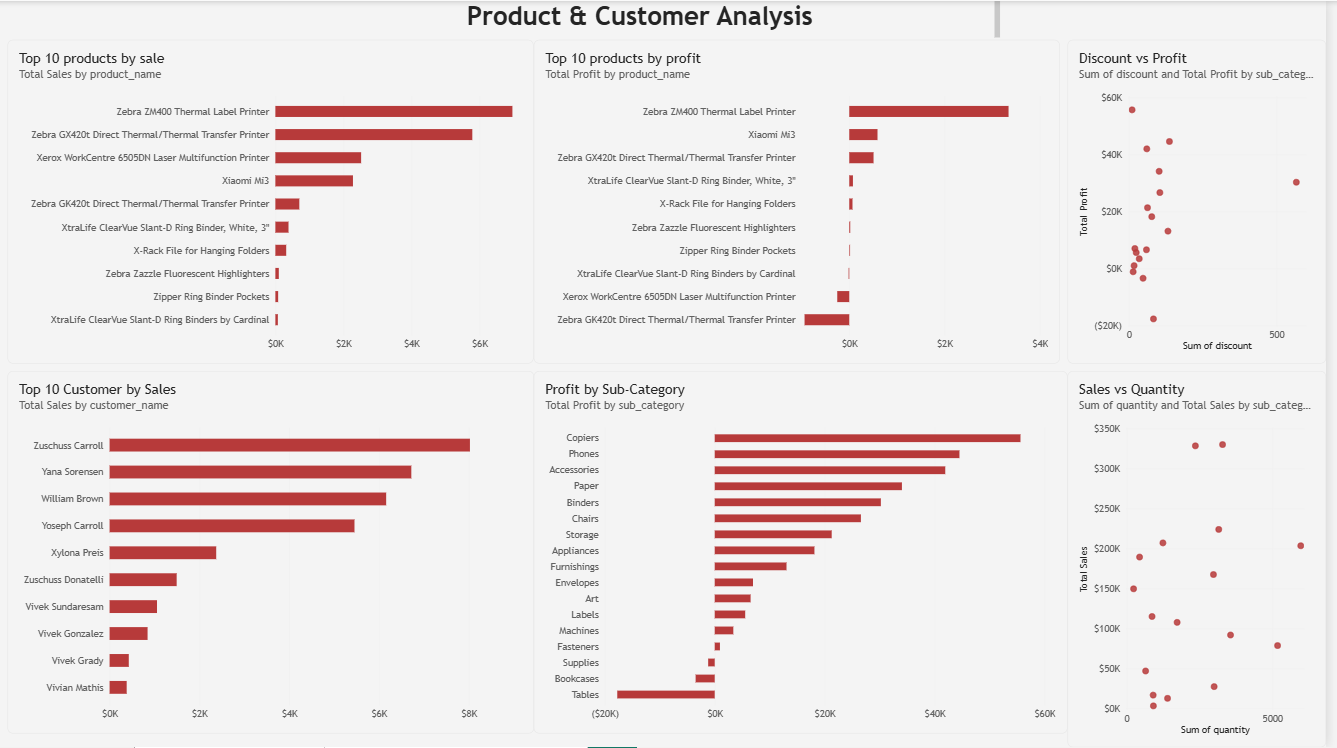

What the dashboard file says about the page in this screenshot:
{"tool":"powerbi","page":{"name":"Product and Customer Analysis","canvas":[1920,1080],"ordinal":1},"visuals":[{"type":"clusteredBarChart","title":"Top 10 products by sale","fields":{"Category":["public superstore.product_name"],"Y":["public superstore.Total Sales"]},"box":[10.9,56.1,761.9,468.7],"z":0},{"type":"clusteredBarChart","title":"Top 10 products by profit","fields":{"Category":["public superstore.product_name"],"Y":["public superstore.Total Profit"]},"box":[772.7,56.1,761.9,468.7],"z":1000},{"type":"clusteredBarChart","title":"Top 10 Customer by Sales","fields":{"Category":["public superstore.customer_name"],"Y":["public superstore.Total Sales"]},"box":[10,535,762,525],"z":2000},{"type":"clusteredBarChart","title":"Profit by Sub-Category","fields":{"Category":["public superstore.sub_category"],"Y":["public superstore.Total Profit"]},"box":[772.7,535.7,772.7,524.8],"z":3000},{"type":"scatterChart","title":"Discount vs Profit ","fields":{"X":["Sum(public superstore.discount)"],"Y":["public superstore.Total Profit"],"Category":["public superstore.sub_category"]},"box":[1545.5,56.1,374.6,468.7],"z":4000},{"type":"scatterChart","title":"Sales vs Quantity","fields":{"X":["Sum(public superstore.quantity)"],"Y":["public superstore.Total Sales"],"Category":["public superstore.sub_category"]},"box":[1545.5,535.7,374.6,544.7],"z":5000},{"type":"textbox","box":[412.6,0,1035.1,56.1],"z":5001}]}

Visuals, with their boxes in screenshot pixels (x1, y1, x2, y2), scaled from the page's 1920x1080 canvas onto the 1337x748 screenshot:
"Top 10 products by sale" clusteredBarChart: 8:39:538:363
"Top 10 products by profit" clusteredBarChart: 538:39:1069:363
"Top 10 Customer by Sales" clusteredBarChart: 7:371:538:734
"Profit by Sub-Category" clusteredBarChart: 538:371:1076:734
"Discount vs Profit " scatterChart: 1076:39:1336:363
"Sales vs Quantity" scatterChart: 1076:371:1336:747
textbox: 287:0:1008:39
